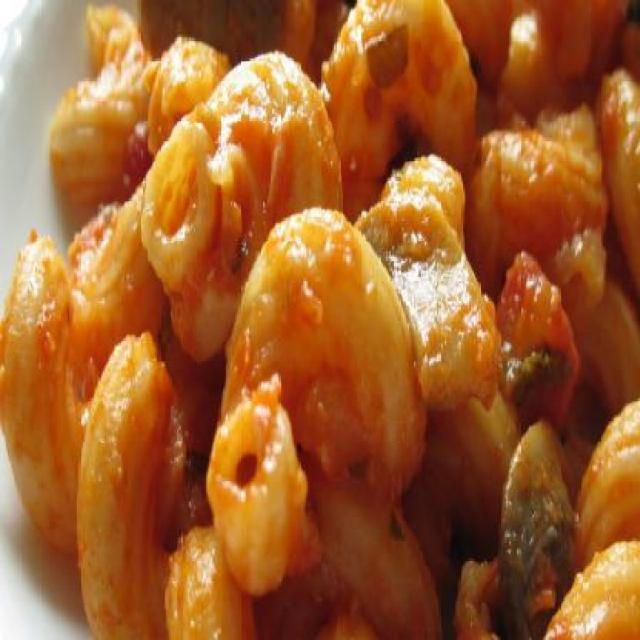Pasta al ragu: (50, 8, 621, 604)
